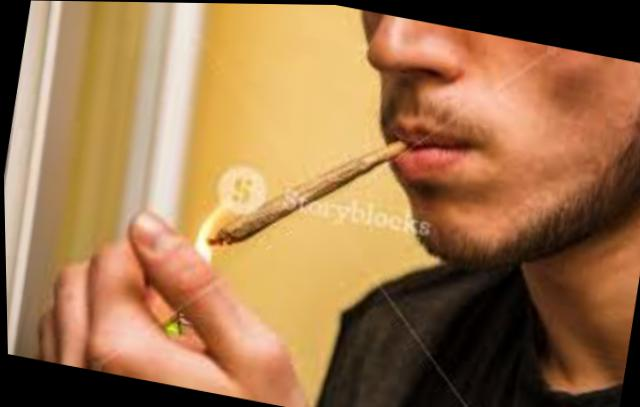fire: (177, 196, 240, 271)
